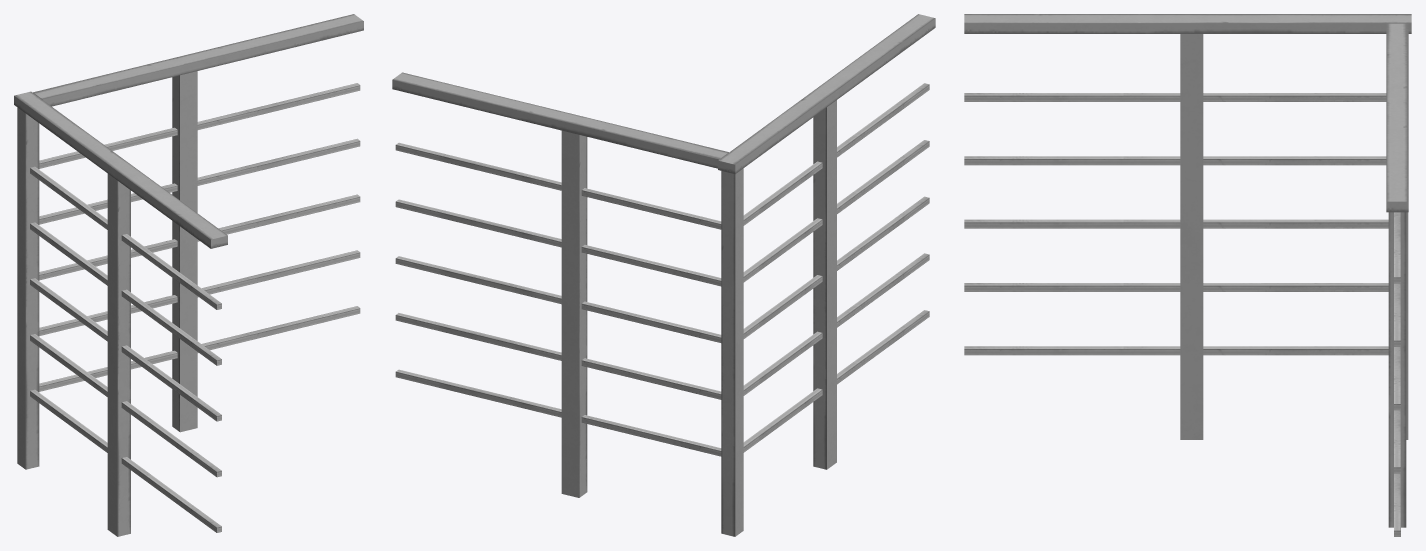
File: MB_Fence_H_Angle.fbx
3 views of the same model, side by side, from view 1: azimuth 30°, elevation 25°; view 2: azimuth 150°, elevation 25°; view 3: azimuth 270°, elevation 25° (orthographic). The views are drawn at different scales.
Visible parts, largest first — view 1: MB_Fence_H_Angle; view 2: MB_Fence_H_Angle; view 3: MB_Fence_H_Angle.
Boxes of the visible parts, box(x1,y1,x2,y2) form: MB_Fence_H_Angle: box(14, 14, 363, 536); MB_Fence_H_Angle: box(392, 14, 935, 536); MB_Fence_H_Angle: box(964, 14, 1411, 536).
Bounding box in the file's own units: 97.44 × 101 × 98.12.
